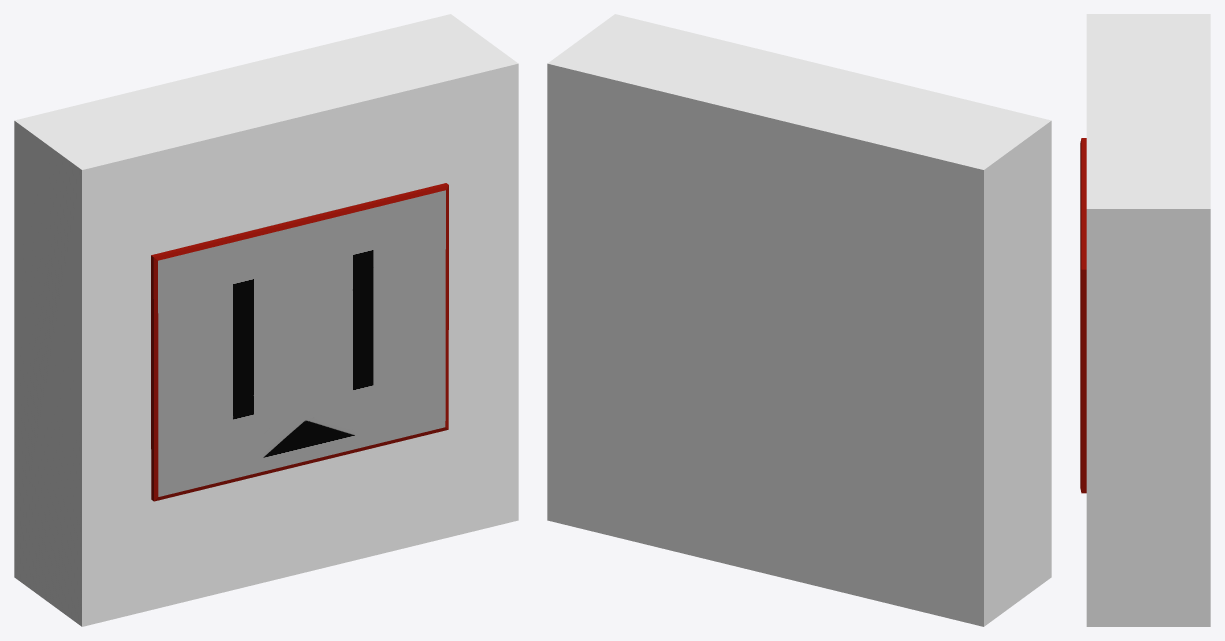
The model's file is 插线板2.fbx.
The picture shows the model from 3 angles, left to right: view 1: azimuth 30°, elevation 25°; view 2: azimuth 150°, elevation 25°; view 3: azimuth 270°, elevation 25°; orthographic projection. The views are drawn at different scales.
Visible parts, largest first — view 1: 立方体; view 2: 立方体; view 3: 立方体.
Part boxes in pixels (bbox=[...]): 立方体: bbox=[14, 14, 518, 626]; 立方体: bbox=[547, 14, 1051, 626]; 立方体: bbox=[1080, 14, 1210, 626].
Size of the model in its own units: 592 by 592 by 167.
Materials: 1 (1 with a texture image).
